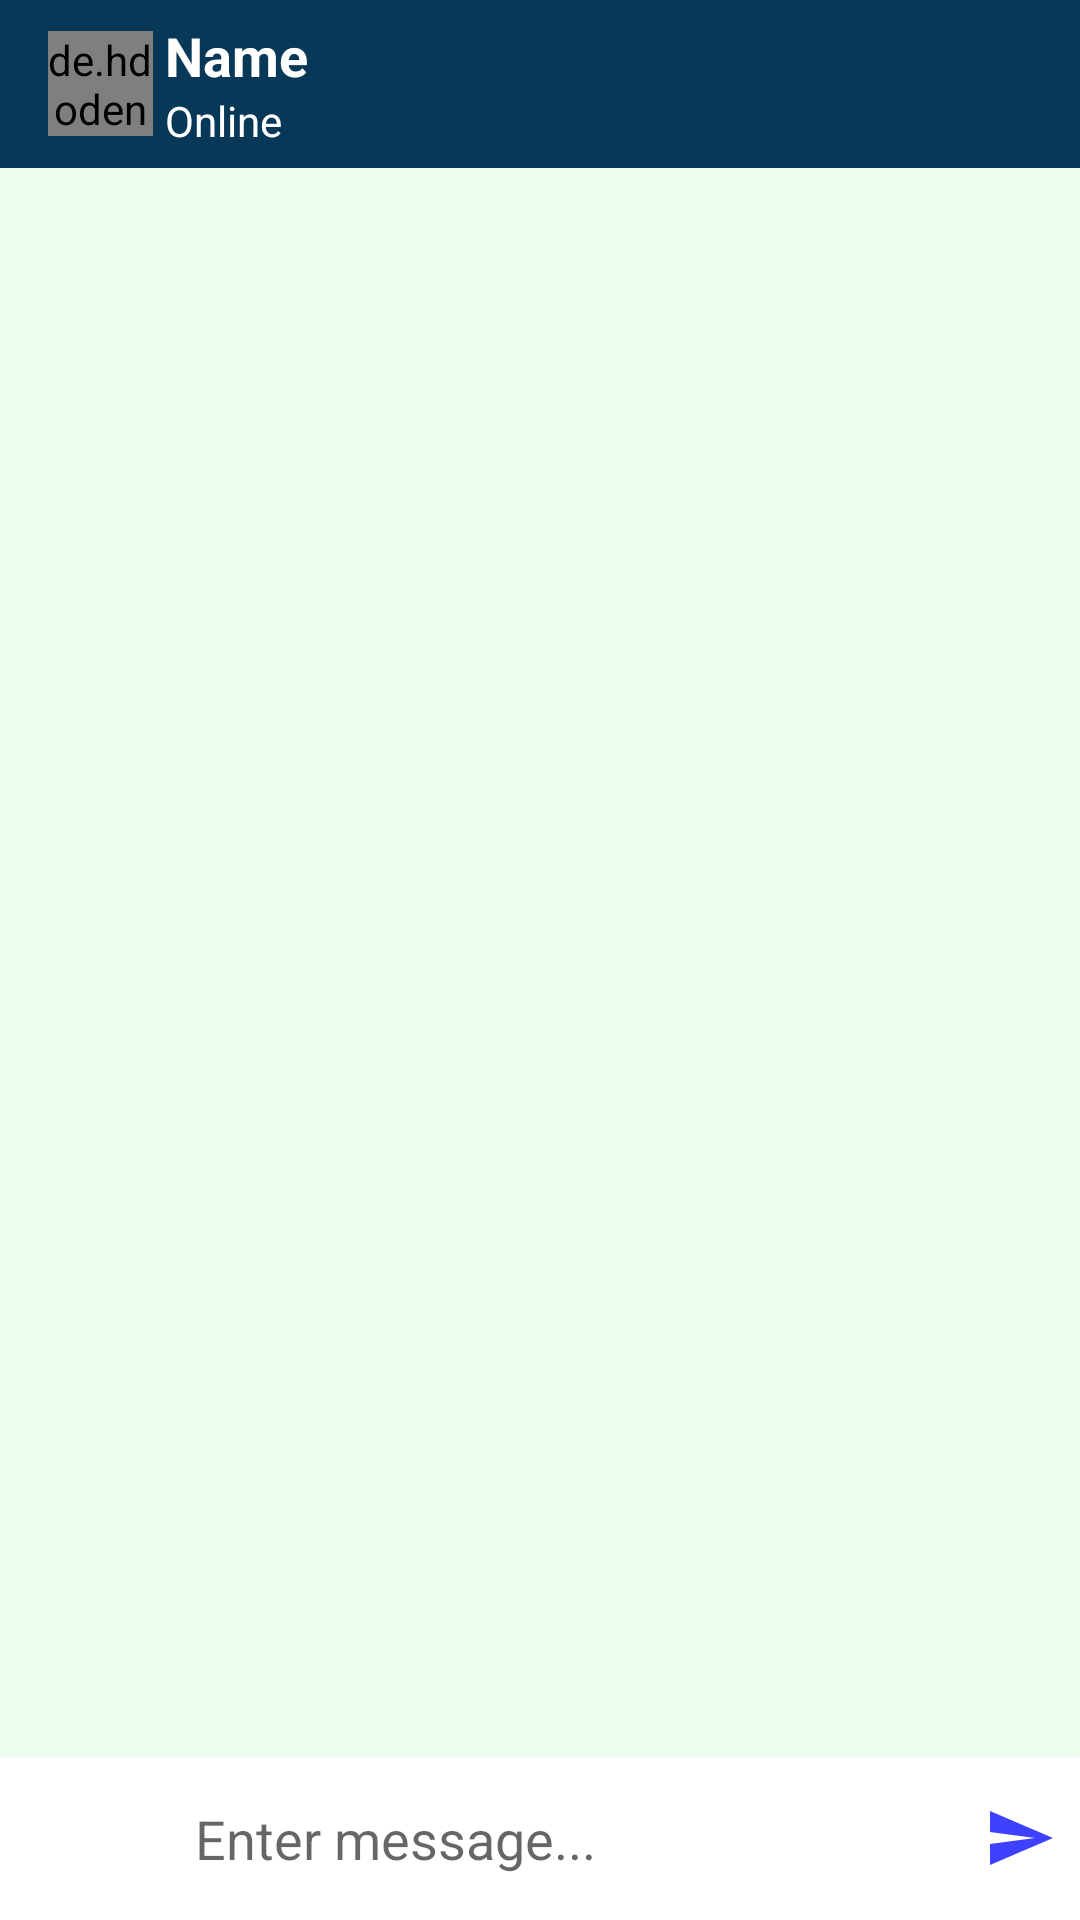

Where icons sit on this 1080x1920 app screen, as (x1, y1, x2, y2):
send: (990, 1811, 1053, 1865)
